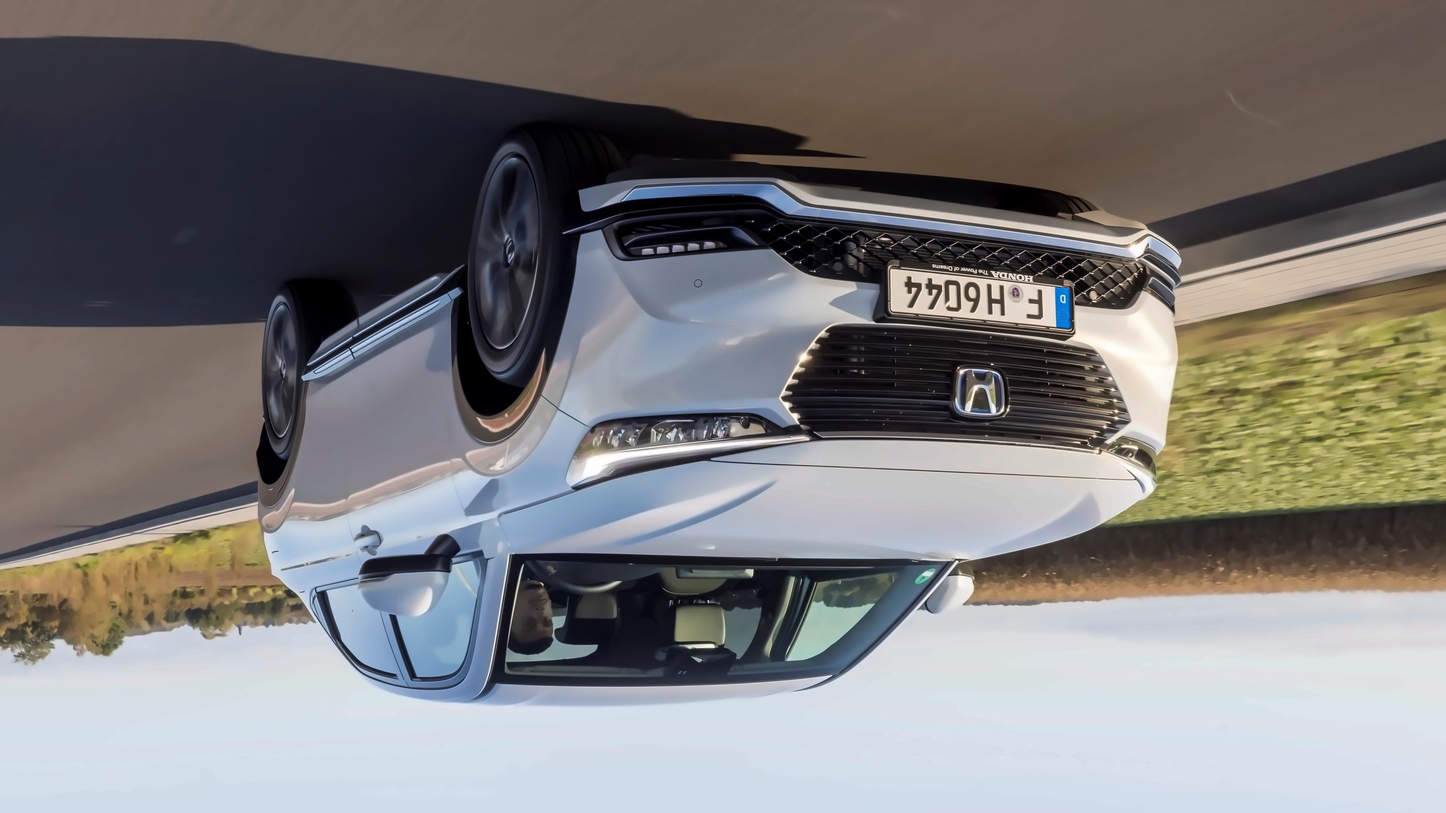Car hood: (494, 455, 1153, 563)
Fender - -F-L-: (439, 268, 584, 560)
Fender - -R-L-: (248, 375, 319, 594)
Front bumper: (542, 158, 1186, 426)
Headlight - -L-: (567, 409, 779, 487)
Passenger-s door - -F-L-: (341, 256, 502, 709)
Passenger-s door - -R-L-: (305, 269, 415, 709)
Side bumper - -L-: (299, 258, 462, 420)
Side mirror - -L-: (359, 518, 464, 616)
